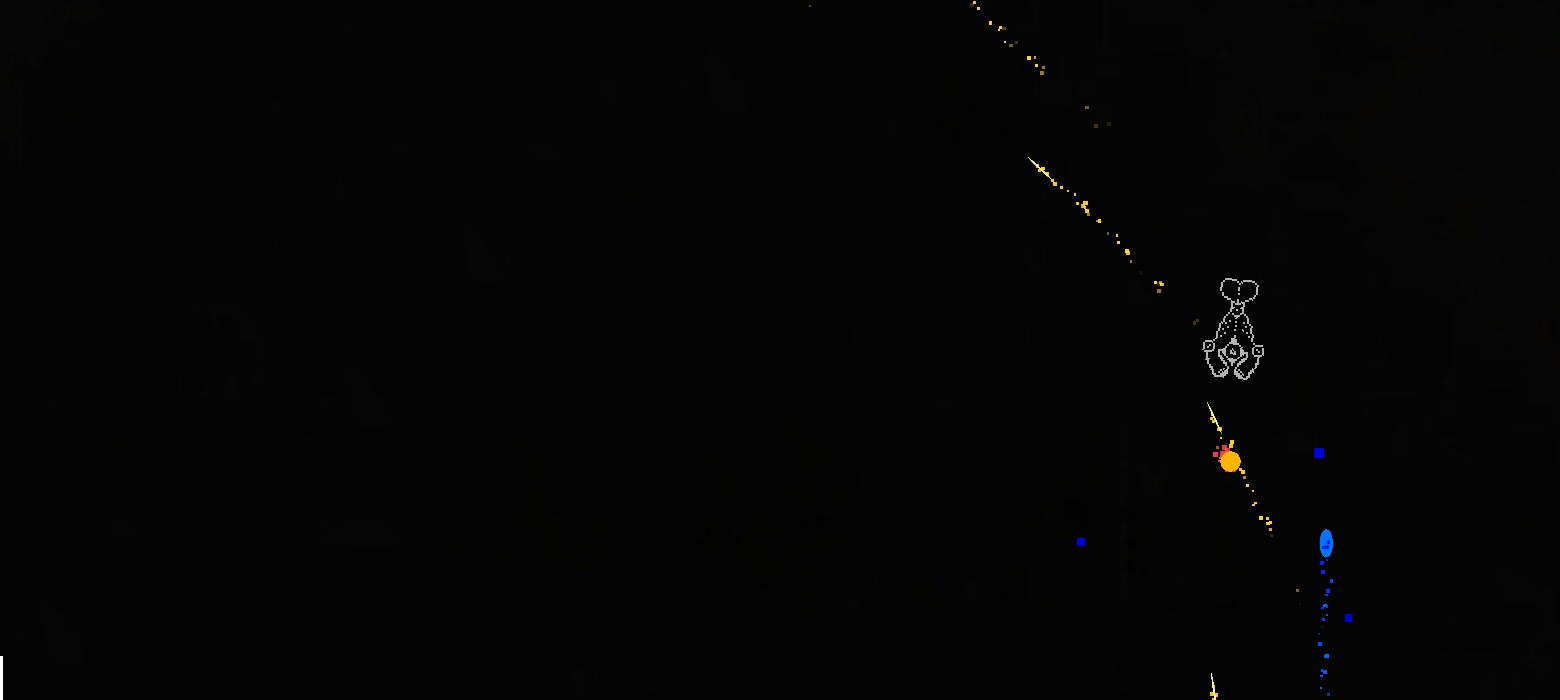enemy: (1202, 277, 1265, 381)
